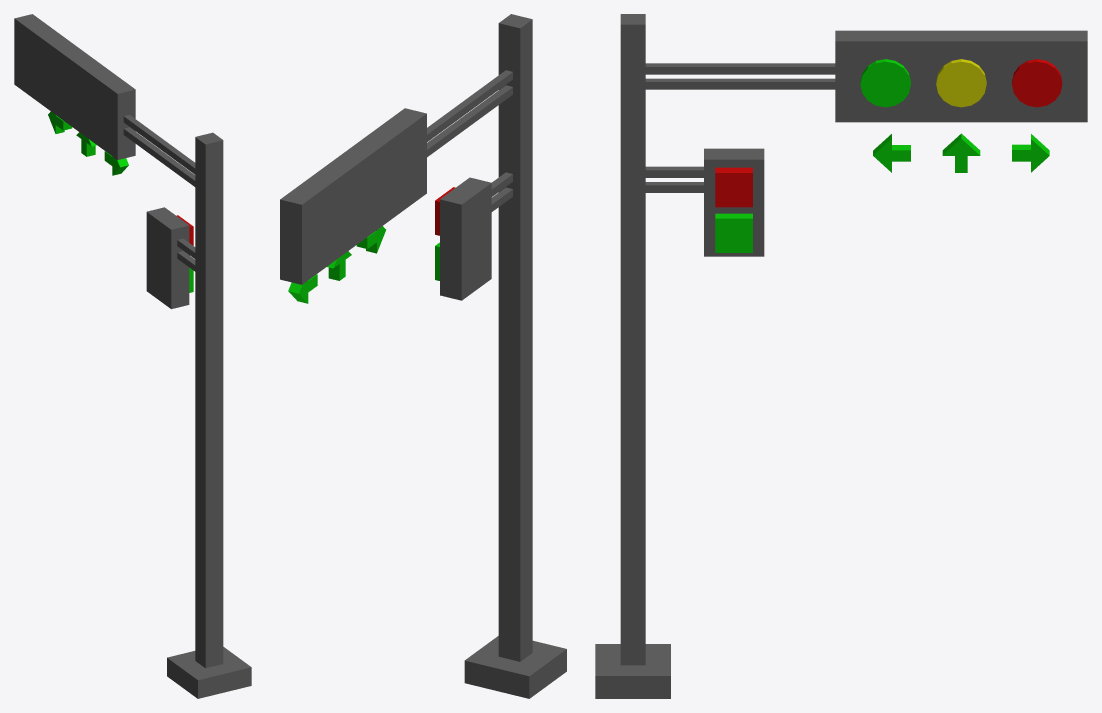
Rendered from TrafficLight.fbx.
The picture shows the model from 3 angles, left to right: view 1: azimuth 30°, elevation 25°; view 2: azimuth 150°, elevation 25°; view 3: azimuth 270°, elevation 25°; orthographic projection. The views are drawn at different scales.
Parts seen in each view (by area): view 1: Base; view 2: Base, Right; view 3: Base, GreenLight, RedLight, YellowLight, PedRed, PedGreen, Right, Straight, left.
Part boxes in pixels (x1,y1,x2,y2): Base: (14, 14, 251, 698); Base: (280, 14, 566, 698); Right: (288, 274, 317, 303); Base: (595, 14, 1087, 698); GreenLight: (860, 59, 910, 107); RedLight: (1012, 59, 1062, 107); YellowLight: (936, 59, 986, 107); PedRed: (715, 167, 752, 207); PedGreen: (715, 213, 752, 252); Right: (1012, 134, 1049, 172); Straight: (942, 133, 980, 172); left: (873, 134, 910, 172).
Bounding box in the file's own units: 60 × 580 × 390.
